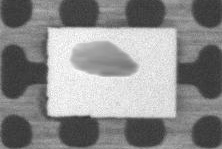DIE_INK: (67, 38, 139, 78)
